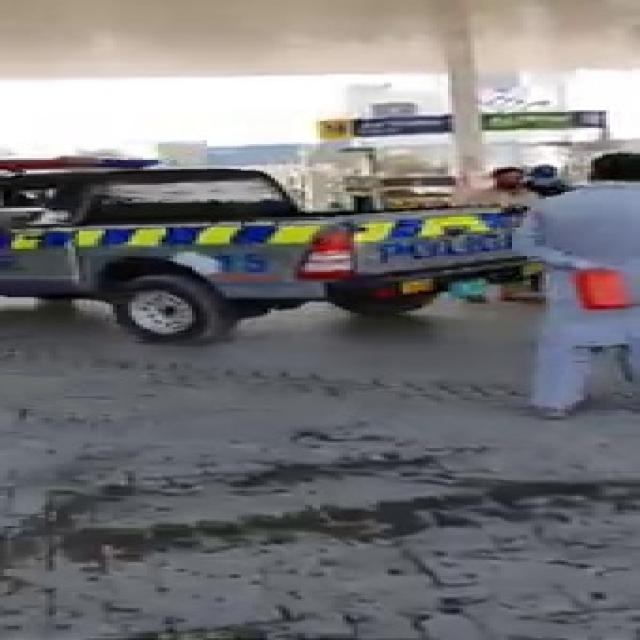police: (0, 155, 478, 349)
